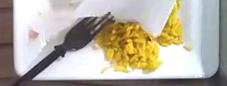rice: (95, 21, 160, 71)
